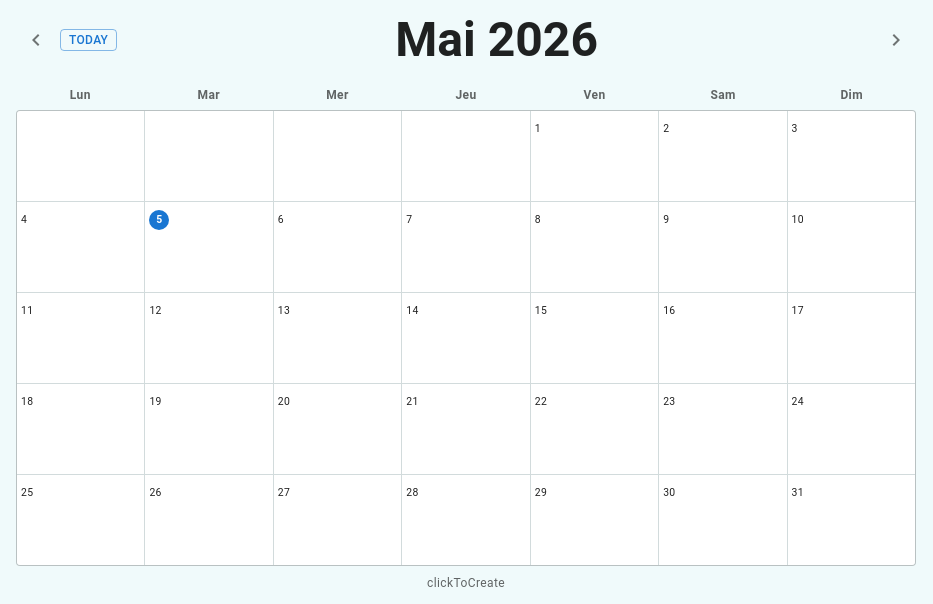
CalendarContent › navigates to next month
Click the button named "nextMonth". click: click(896, 40)
box: [876,20,916,60]
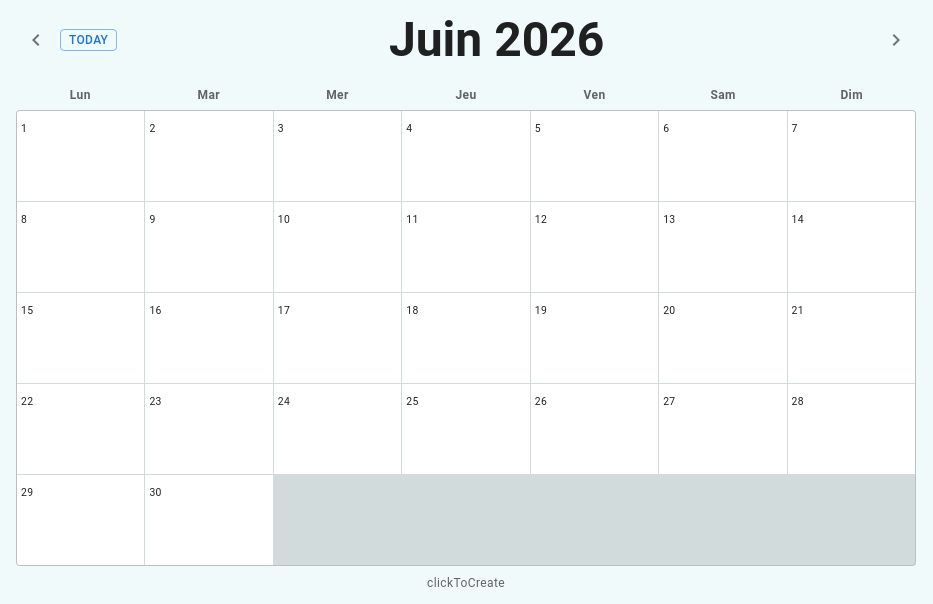
expect the heading "Juin 2026" is shown: met, box [389,12,604,68]
